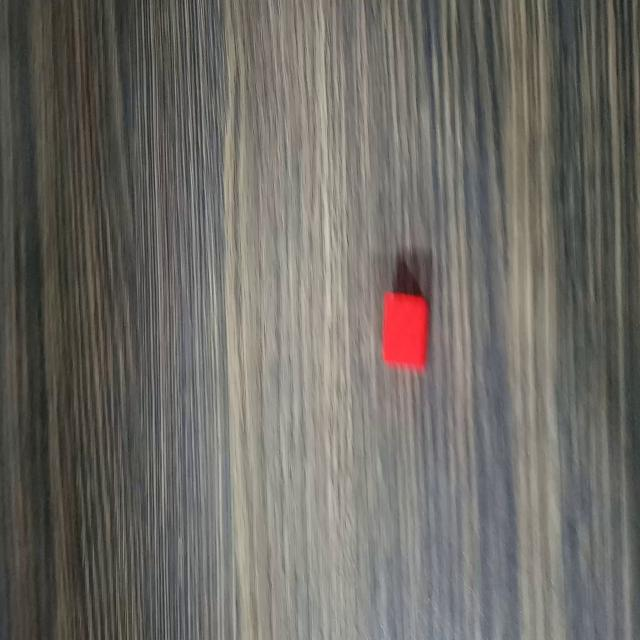cube: (379, 284, 432, 374)
